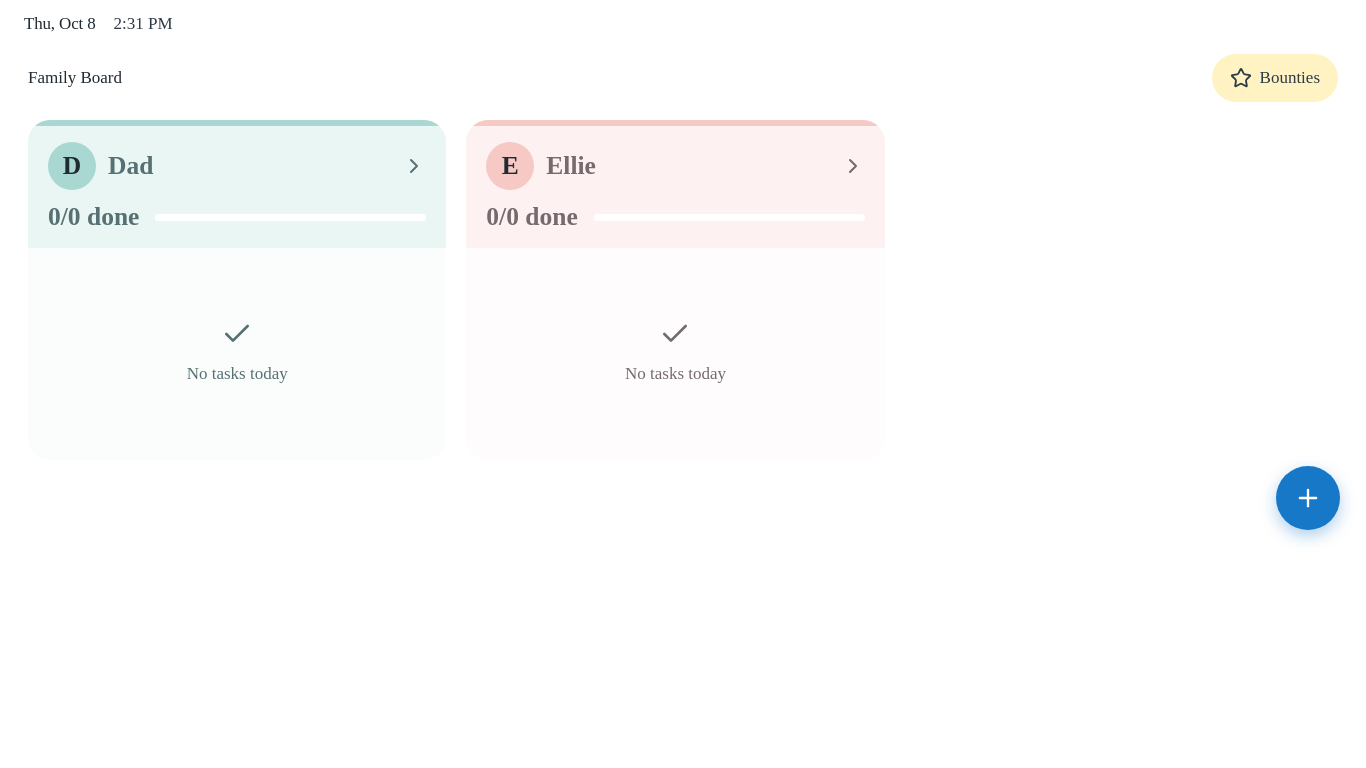
TasksScreen › orders offerings by descending Stars with stable ties and keeps zero-Star work
Click the button "Bounties" at (1275, 78), box [1212,54,1338,102]
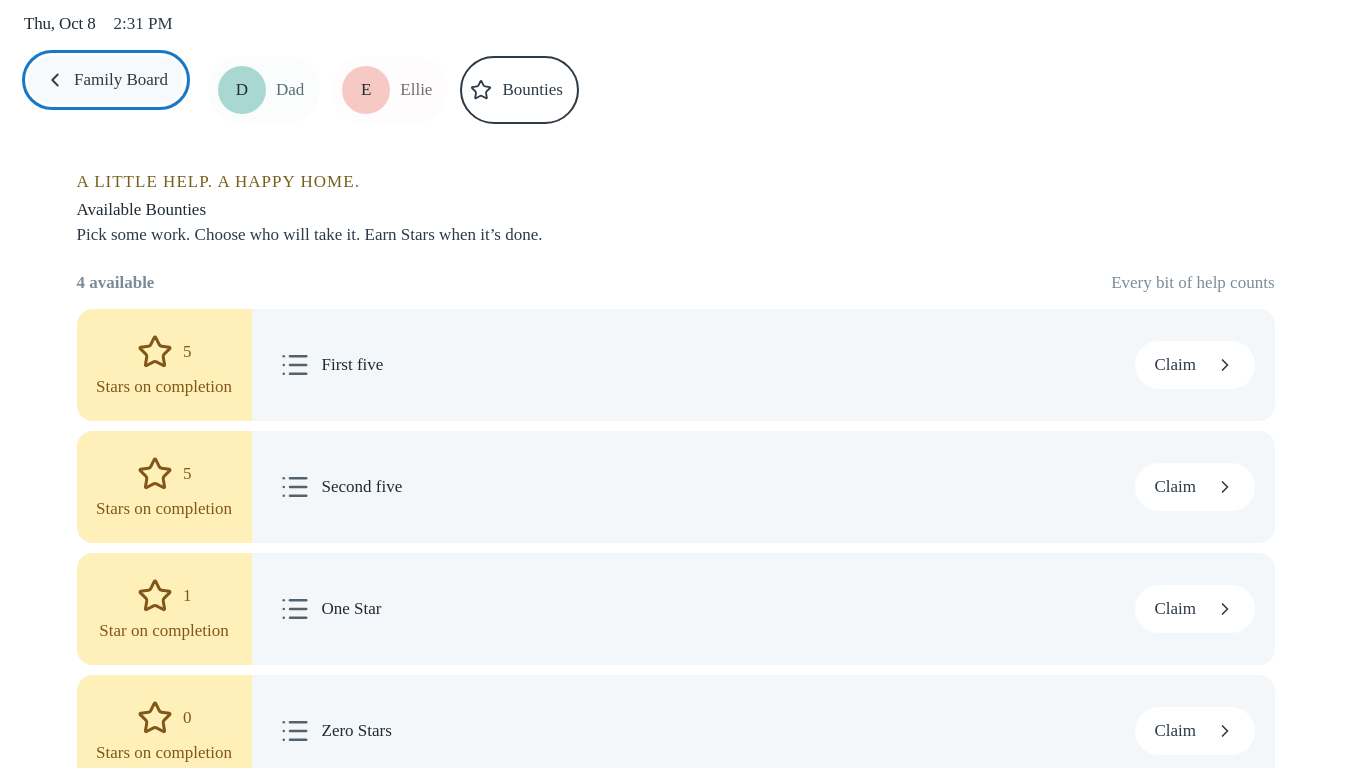
Now the text "Star on completion" is shown, box [99,620,229,640]
Now the text "Stars on completion" is shown 3 times, box [96,376,232,396]; [96,498,232,518]; [96,742,232,762]
